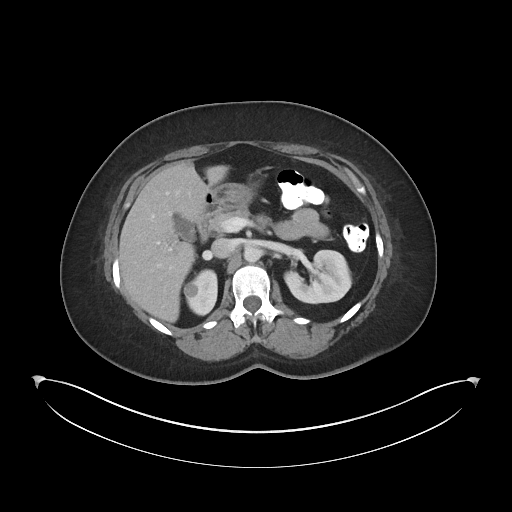Lesion: (185, 280, 198, 297)
